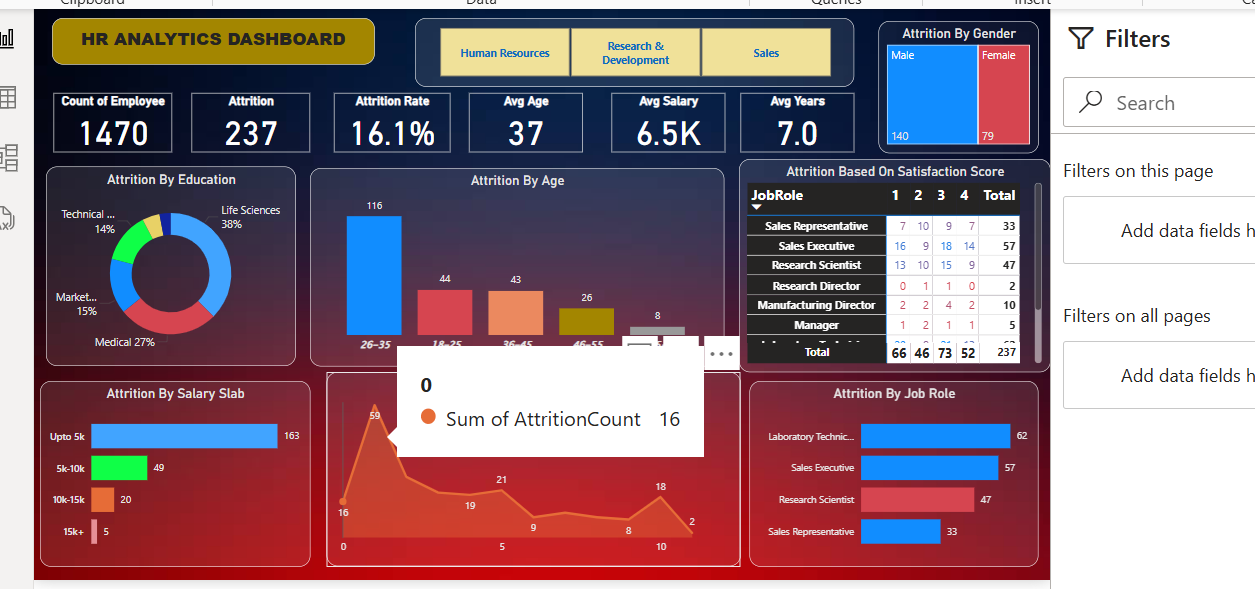

What the dashboard file says about the page in this screenshot:
{"tool":"powerbi","page":{"name":"Page 1","canvas":[1280,720],"ordinal":0},"visuals":[{"type":"card","title":"Count of Employee","fields":{"Values":["CountNonNull(HR_Analytics.EmpID)"]},"box":[23.9,106.6,149.5,74.8],"z":0},{"type":"card","title":"Attrition","fields":{"Values":["Sum(HR_Analytics.AttritionCount)"]},"box":[198.8,106.6,149.5,74.8],"z":1000},{"type":"card","title":"Attrition Rate","fields":{"Values":["HR_Analytics.AttrritionRate"]},"box":[378.6,106.6,146.3,74.8],"z":2000},{"type":"card","title":"Avg Age","fields":{"Values":["Avg(HR_Analytics.Age)"]},"box":[548.8,106.6,143.2,74.8],"z":3000},{"type":"card","title":"Avg Salary","fields":{"Values":["Avg(HR_Analytics.MonthlyIncome)"]},"box":[728.5,106.6,143.2,74.8],"z":4000},{"type":"card","title":"Avg Years","fields":{"Values":["Avg(HR_Analytics.YearsAtCompany)"]},"box":[890.7,106.6,143.2,74.8],"z":5000},{"type":"donutChart","title":"Attrition By Education","fields":{"Category":["HR_Analytics.EducationField"],"Y":["Sum(HR_Analytics.AttritionCount)"]},"box":[15.9,198.8,314.9,251.3],"z":6000},{"type":"columnChart","title":"Attrition By Age","fields":{"Category":["HR_Analytics.AgeGroup"],"Y":["Sum(HR_Analytics.AttritionCount)"]},"box":[348.3,200.4,521.7,249.7],"z":7000},{"type":"pivotTable","title":"Attrition Based On Satisfaction Score","fields":{"Rows":["HR_Analytics.JobRole"],"Columns":["HR_Analytics.JobSatisfaction"],"Values":["Sum(HR_Analytics.AttritionCount)"]},"box":[887.6,189.3,392.9,268.8],"z":8000},{"type":"barChart","title":"Attrition By Salary Slab","fields":{"Category":["HR_Analytics.SalarySlab"],"Y":["Sum(HR_Analytics.AttritionCount)"]},"box":[8,469.2,340.4,233.8],"z":9000},{"type":"barChart","title":"Attrition By Job Role","fields":{"Category":["HR_Analytics.JobRole","HR_Analytics.AgeGroup"],"Y":["Sum(HR_Analytics.AttritionCount)"]},"box":[901.9,469.2,364.2,233.8],"z":10000},{"type":"areaChart","title":"Attrition By Years At Company","fields":{"Category":["HR_Analytics.YearsAtCompany"],"Y":["Sum(HR_Analytics.AttritionCount)"]},"box":[369,458.1,521.7,245],"z":11000},{"type":"treemap","title":"Attrition By Gender","fields":{"Group":["HR_Analytics.Gender"],"Values":["Sum(HR_Analytics.AttritionCount)"]},"box":[1063.3,15,201.7,166.7],"z":12000},{"type":"textbox","box":[23.3,11.7,406.7,58.3],"z":13000},{"type":"slicer","fields":{"Values":["HR_Analytics.Department"]},"box":[480,11.7,553.3,86.7],"z":14000}]}

Visuals, with their boxes in screenshot pixels (x1, y1, x2, y2):
"Count of Employee" card: 42,96,163,156
"Attrition" card: 183,96,304,156
"Attrition Rate" card: 328,96,446,156
"Avg Age" card: 465,96,580,156
"Avg Salary" card: 610,96,725,156
"Avg Years" card: 741,96,856,156
"Attrition By Education" donutChart: 36,170,289,372
"Attrition By Age" columnChart: 304,171,724,372
"Attrition Based On Satisfaction Score" pivotTable: 738,162,1055,379
"Attrition By Salary Slab" barChart: 29,388,304,576
"Attrition By Job Role" barChart: 750,388,1043,576
"Attrition By Years At Company" areaChart: 320,379,741,576
"Attrition By Gender" treemap: 880,22,1042,156
textbox: 42,19,369,66
slicer - HR_Analytics.Department: 410,19,855,89
